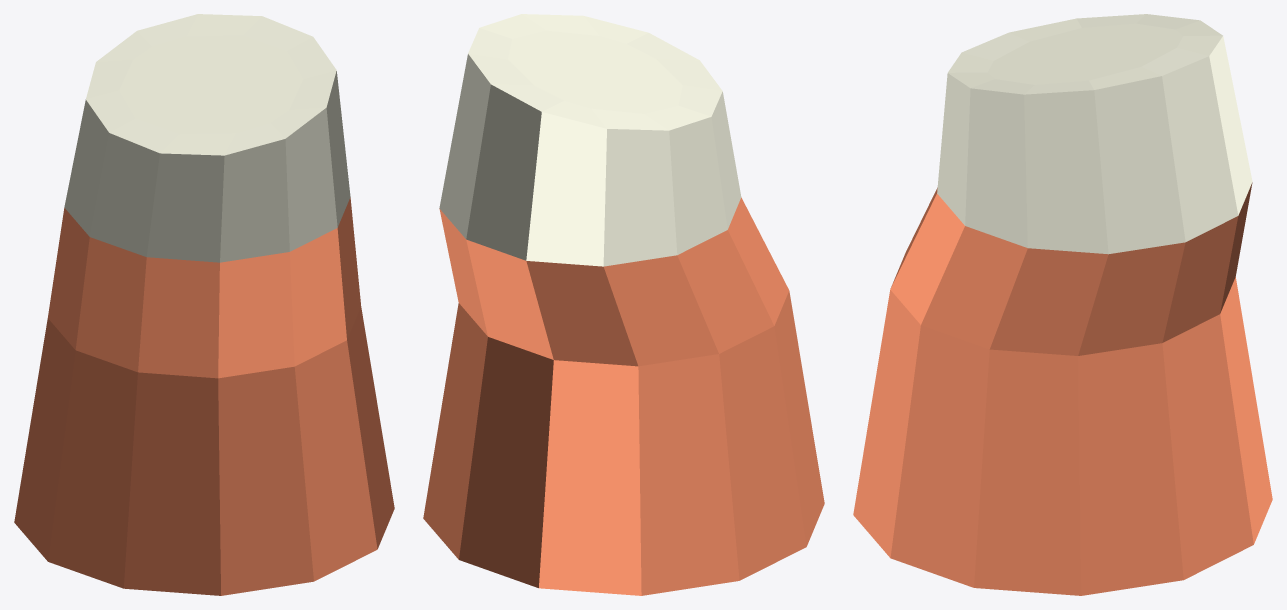
Rendered from Stump5_winter.FBX.
3 renders of one model, left to right at view 1: azimuth 30°, elevation 25°; view 2: azimuth 150°, elevation 25°; view 3: azimuth 270°, elevation 25°, orthographic. The views are drawn at different scales.
Parts seen in each view (by area): view 1: Palm_srt.001; view 2: Palm_srt.001; view 3: Palm_srt.001.
Boxes of the visible parts, x1,y1,x2,y2 form: Palm_srt.001: (14,14,394,595); Palm_srt.001: (423,14,824,595); Palm_srt.001: (853,14,1272,595).
Bounding box in the file's own units: 0.5671 × 0.7259 × 0.5671.
